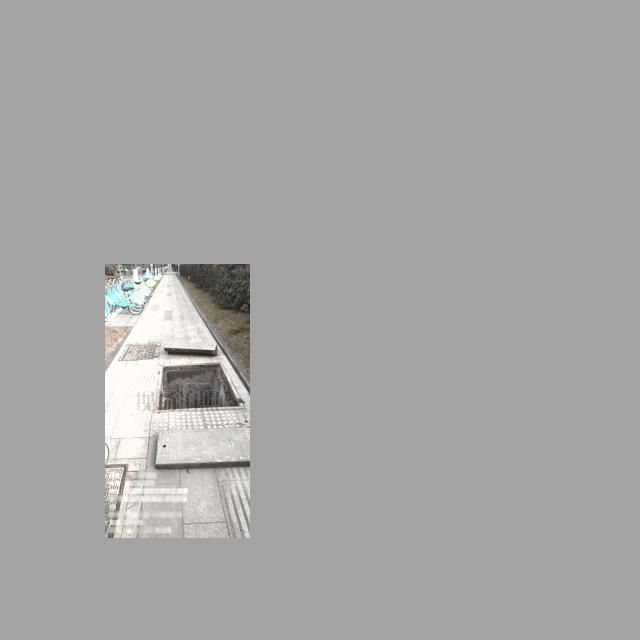good: (117, 341, 159, 360)
uncovered: (155, 341, 250, 469)
